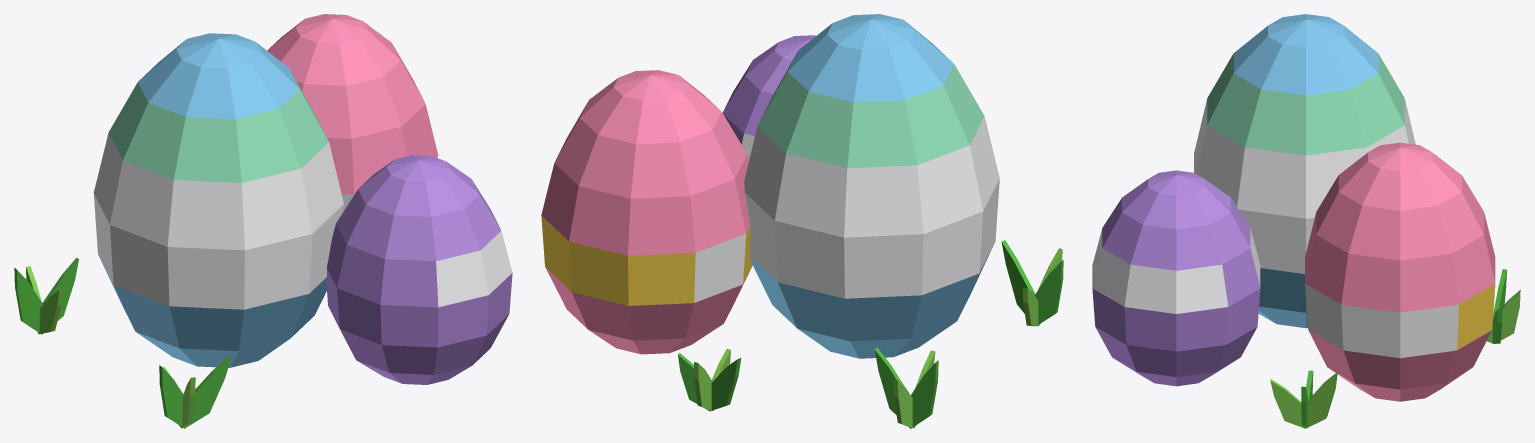
Rendered from eggs-1x1.glb.
3 views of the same model, side by side, from view 1: azimuth 30°, elevation 25°; view 2: azimuth 150°, elevation 25°; view 3: azimuth 270°, elevation 25° (orthographic). The views are drawn at different scales.
Parts seen in each view (by area): view 1: eggs-1x1; view 2: eggs-1x1; view 3: eggs-1x1.
Boxes of the visible parts, x1=… form: eggs-1x1: x1=14, y1=14, x2=512, y2=428; eggs-1x1: x1=541, y1=14, x2=1063, y2=428; eggs-1x1: x1=1092, y1=14, x2=1520, y2=428.
Size of the model in its own units: 0.9 by 0.689 by 0.8944.
1 material, 1 textured.
